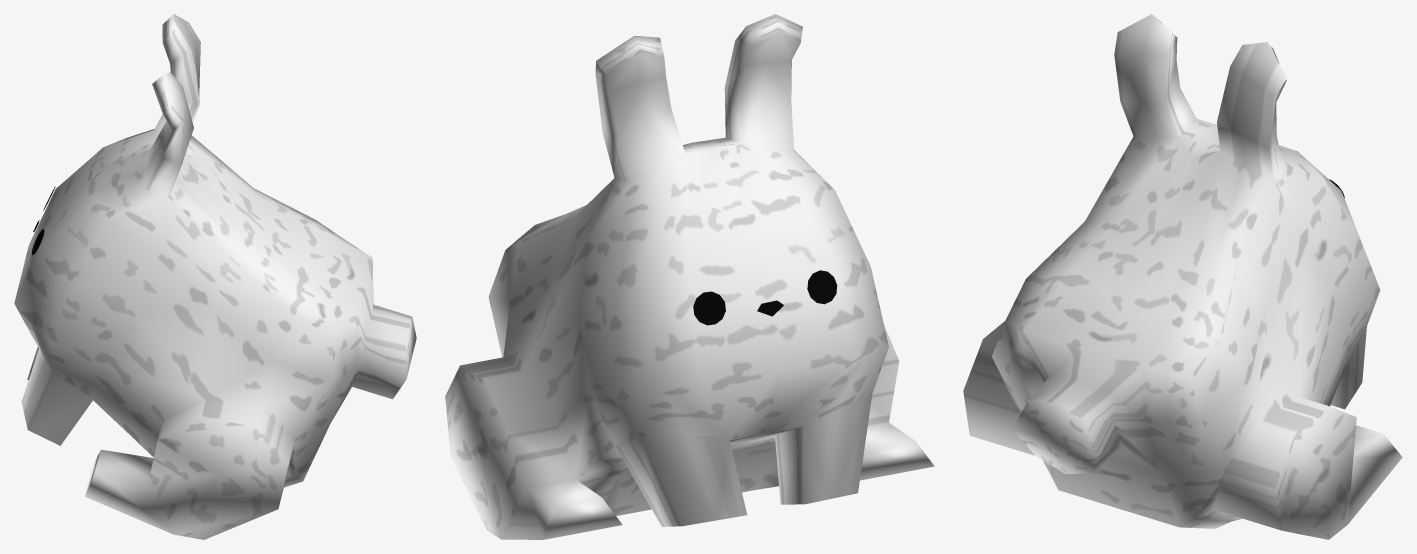
File: ColladaBunnyPlush.dae
The picture shows the model from 3 angles, left to right: view 1: azimuth 30°, elevation 25°; view 2: azimuth 150°, elevation 25°; view 3: azimuth 270°, elevation 25°; orthographic projection. The views are drawn at different scales.
Parts seen in each view (by area): view 1: pCube10; view 2: pCube10, pDisc3, pDisc4; view 3: pCube10.
Boxes of the visible parts, x1,y1,x2,y2 form: pCube10: (14, 14, 416, 539); pCube10: (445, 14, 934, 539); pDisc3: (693, 291, 725, 325); pDisc4: (807, 270, 837, 304); pCube10: (963, 14, 1402, 539).
Bounding box in the file's own units: 54.84 × 66.39 × 58.15.
